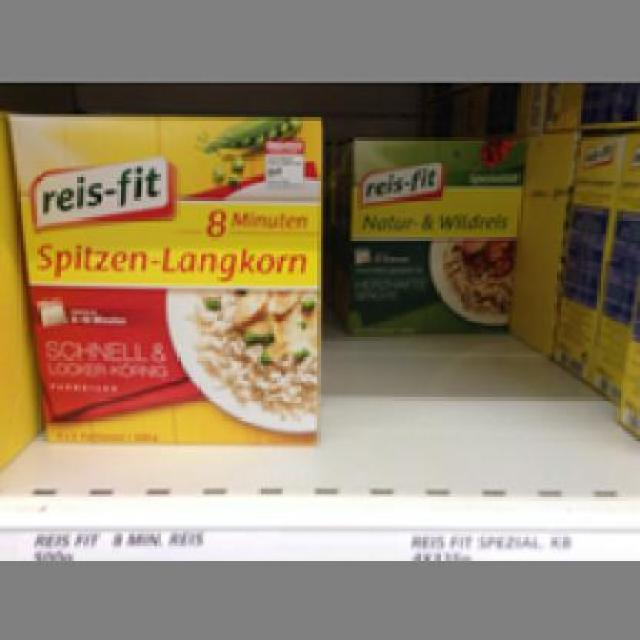Rice: (0, 108, 323, 444), (340, 134, 529, 337)
